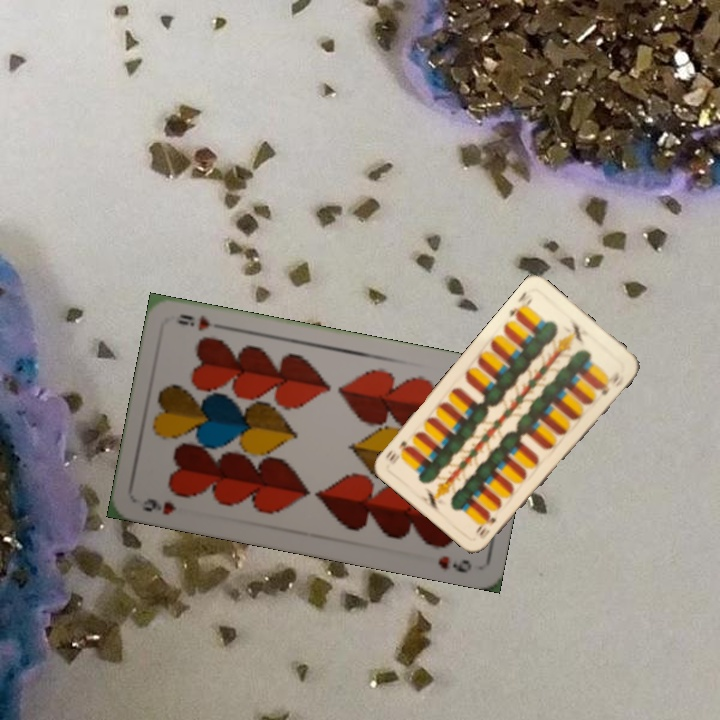E10: (505, 288, 536, 323), (475, 513, 499, 541)
H9: (138, 494, 179, 518)
